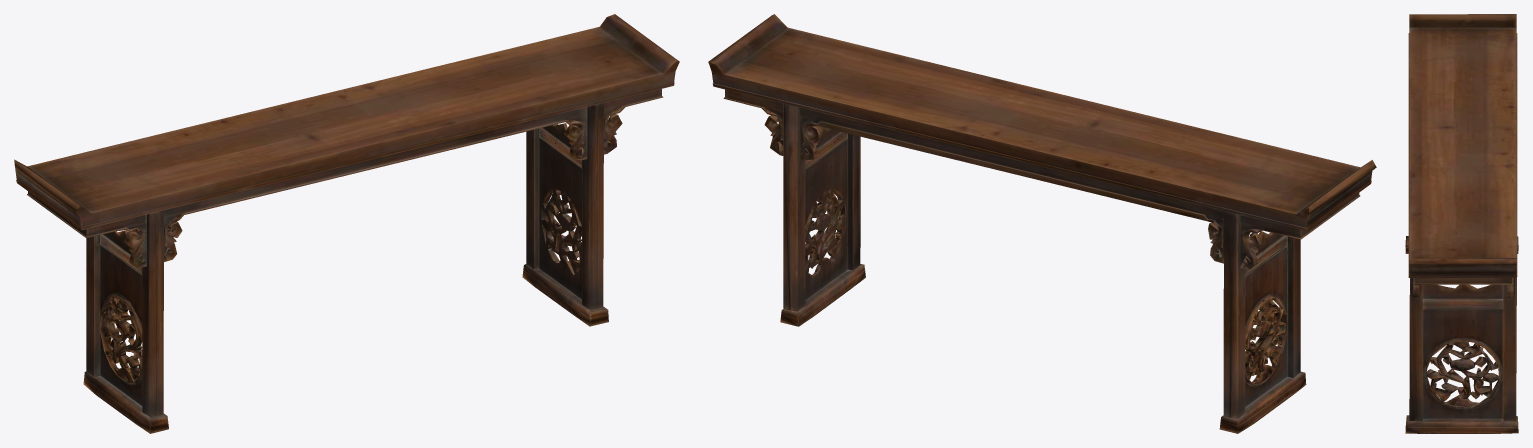
Rendered from chinese_console_table.glb.
3 views of the same model, side by side, from view 1: azimuth 30°, elevation 25°; view 2: azimuth 150°, elevation 25°; view 3: azimuth 270°, elevation 25° (orthographic). The views are drawn at different scales.
Visible parts, largest first — view 1: chinese_console_table; view 2: chinese_console_table; view 3: chinese_console_table.
Part boxes in pixels (<box>): chinese_console_table: <box>14,14,679,433</box>; chinese_console_table: <box>708,14,1376,433</box>; chinese_console_table: <box>1405,14,1518,433</box>.
Bounding box in the file's own units: 1.72 × 0.6606 × 0.3322.
1 material, 1 textured.
